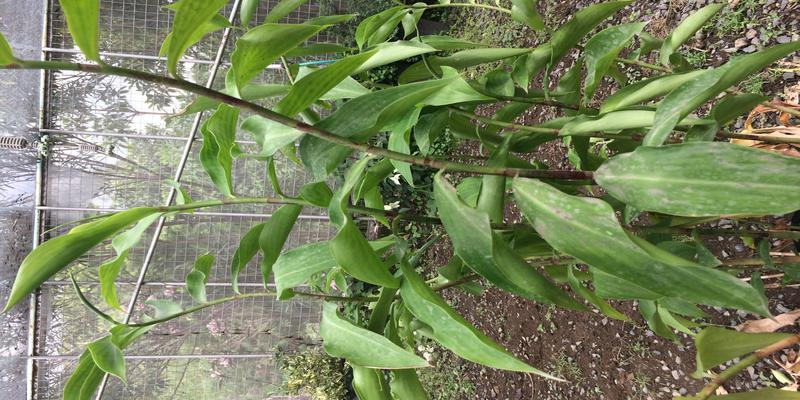Insulin: (186, 64, 772, 313)
